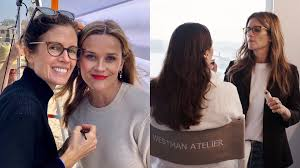middle_eastern_Female: (34, 27, 84, 89), (79, 32, 127, 91), (245, 20, 266, 56)
